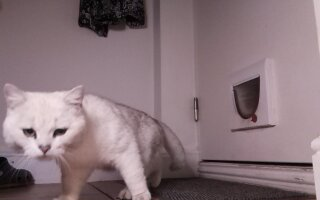bad: (3, 82, 195, 200)
